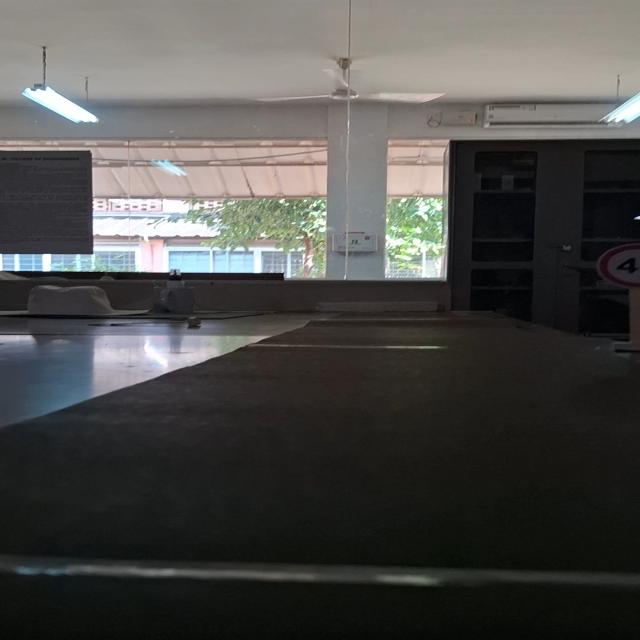Speed40: (594, 240, 640, 290)
